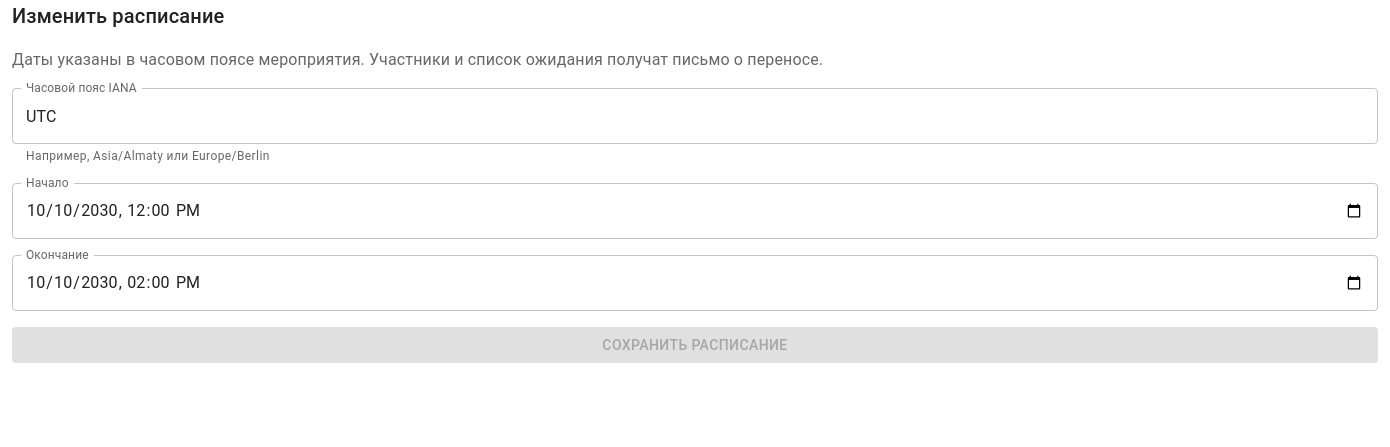
Test case: rejects invalid timezone Invalid/Zone locally
This screenshot has width=1390, height=447.
Replace the text in the field labelled "Часовой пояс IANA" with "Invalid/Zone". click: (695, 116)
box: left=12, top=88, right=1378, bottom=144
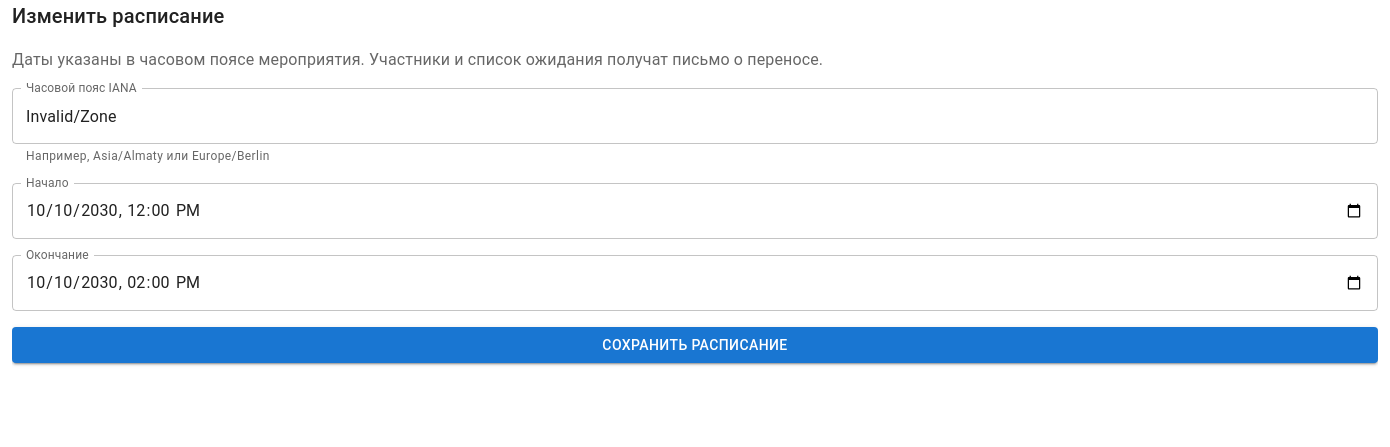
Click the button "Сохранить расписание". click: click(695, 345)
box: left=12, top=327, right=1378, bottom=363
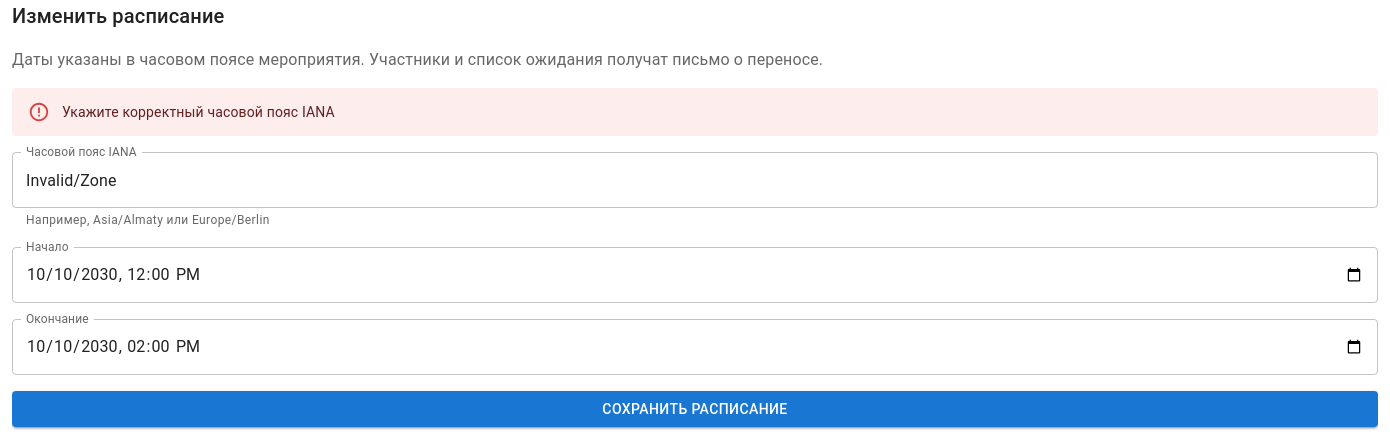
Expected: the message shows "часовой пояс", left=62, top=104, right=335, bottom=120
